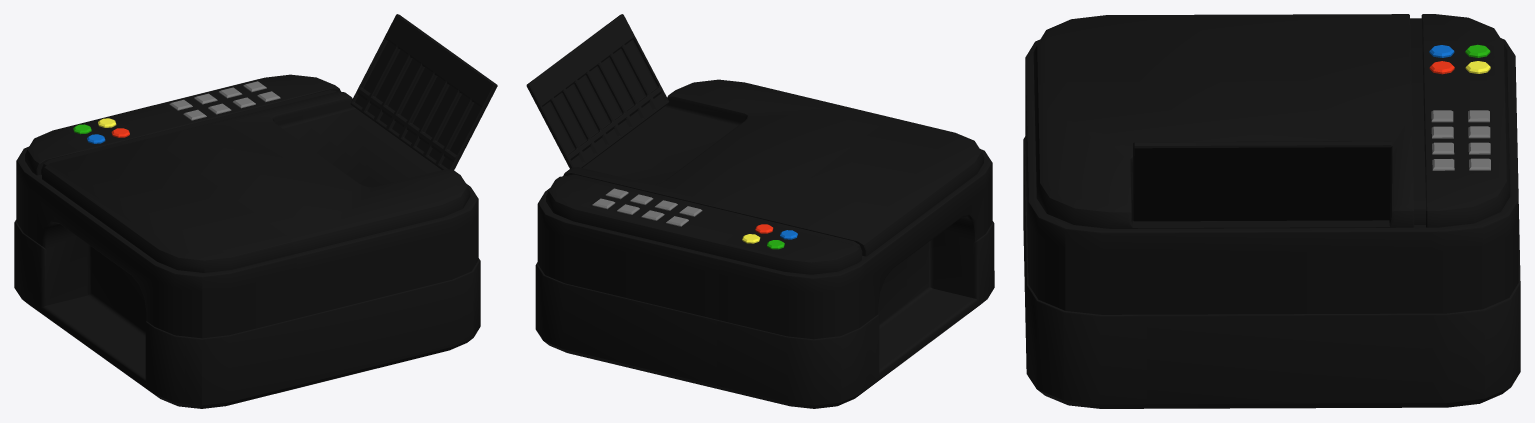
The model's file is desktop-printer-1.glb.
3 renders of one model, left to right at view 1: azimuth 30°, elevation 25°; view 2: azimuth 150°, elevation 25°; view 3: azimuth 270°, elevation 25°, orthographic. The views are drawn at different scales.
Parts seen in each view (by area): view 1: Object_66; view 2: Object_66; view 3: Object_66.
Part boxes in pixels (bbox=[...]): Object_66: bbox=[14, 14, 497, 408]; Object_66: bbox=[526, 14, 994, 408]; Object_66: bbox=[1023, 14, 1520, 408].
Bounding box in the file's own units: 0.8691 × 0.5065 × 0.7786.
1 material, 1 textured.
